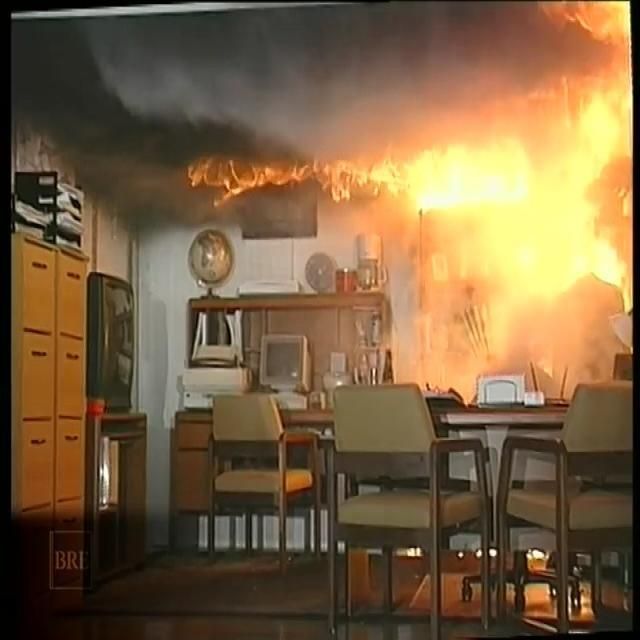Fire: (144, 0, 640, 417)
